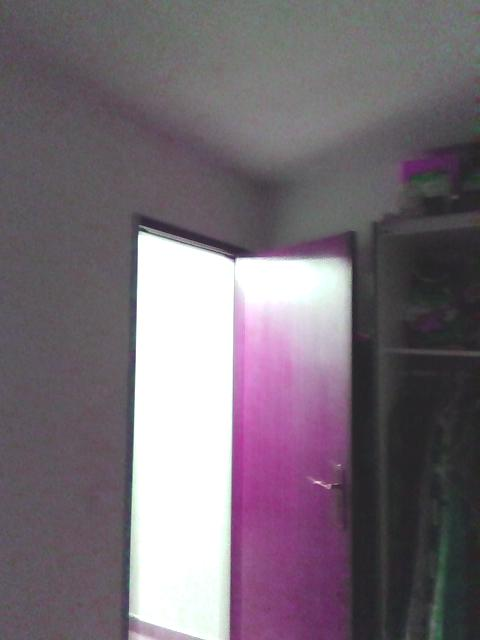open_door: (124, 212, 256, 639)
